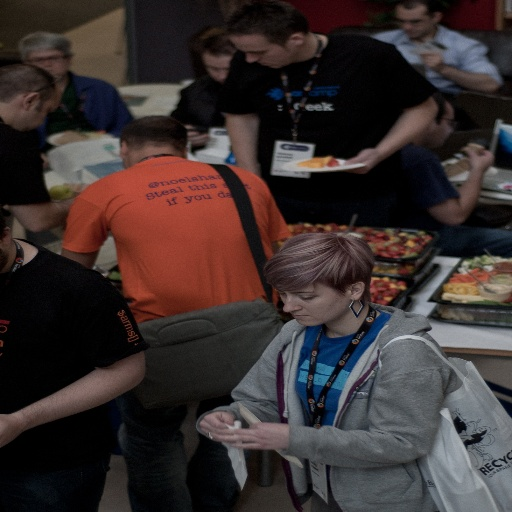hand: (215, 422, 289, 450), (194, 412, 237, 437), (341, 148, 378, 176), (0, 414, 21, 444), (465, 146, 491, 169), (420, 50, 448, 69), (187, 125, 211, 145)
